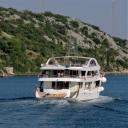cruises: (35, 57, 105, 104)
